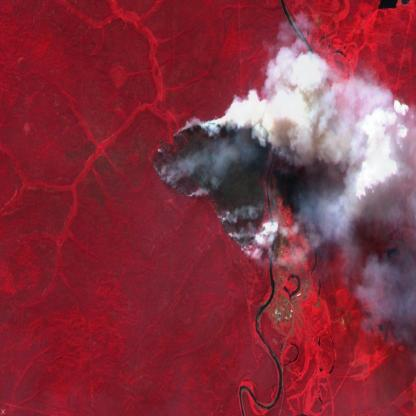fire: (150, 102, 335, 254)
